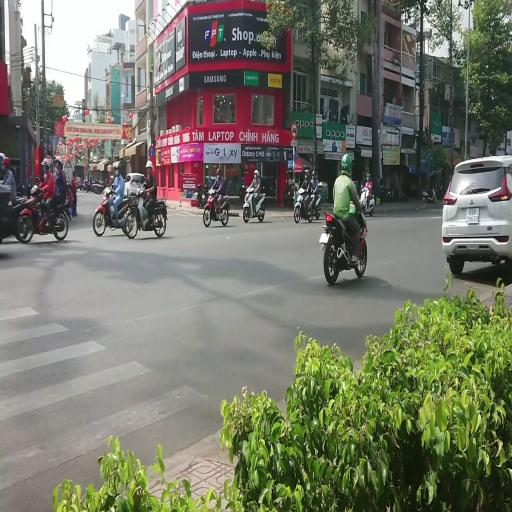bikes: (319, 198, 368, 285), (17, 183, 69, 242), (124, 185, 168, 238), (93, 186, 137, 237), (0, 183, 31, 243), (293, 168, 321, 222), (202, 188, 230, 226), (242, 188, 266, 223), (294, 186, 314, 223), (195, 176, 217, 208), (359, 184, 375, 216), (307, 187, 321, 219), (64, 181, 73, 221), (379, 180, 394, 202), (195, 183, 208, 208), (283, 179, 294, 206), (421, 187, 437, 203), (92, 178, 107, 193), (84, 178, 94, 192)
helmet: (340, 154, 352, 175), (40, 158, 50, 168), (54, 155, 63, 166), (30, 185, 38, 195), (145, 160, 153, 168), (2, 157, 10, 165), (365, 182, 372, 188), (298, 187, 304, 194), (113, 162, 120, 168), (216, 168, 221, 176), (47, 155, 52, 163), (0, 152, 5, 160), (304, 171, 309, 178), (312, 170, 316, 178), (254, 170, 258, 176), (367, 174, 371, 180), (110, 175, 114, 179), (72, 171, 76, 175), (84, 178, 88, 182), (36, 174, 39, 179)
